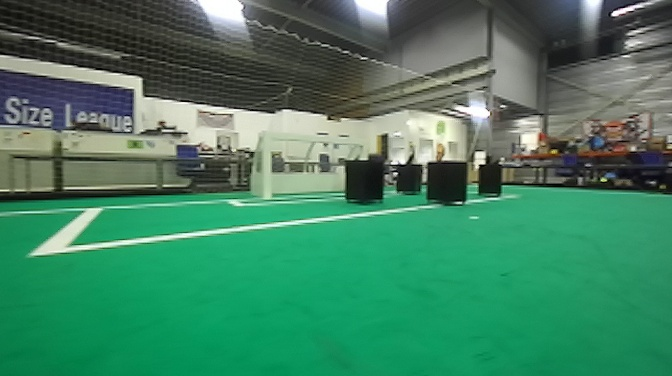goalpost: (261, 132, 275, 202), (357, 137, 374, 162)
